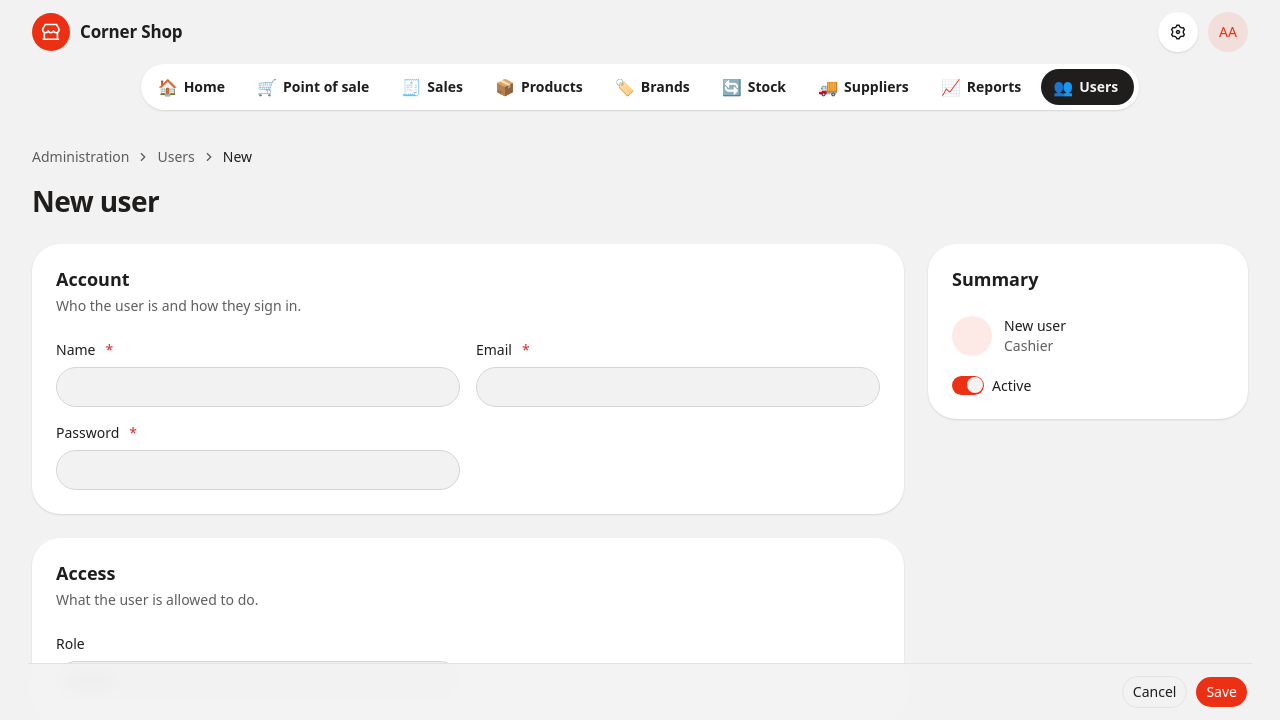
Test case: UserFormPage › shows Unsaved changes after editing and keeps Active in the summary
In the field labelled "Name": (258, 387) [56, 367, 460, 407], type "X"
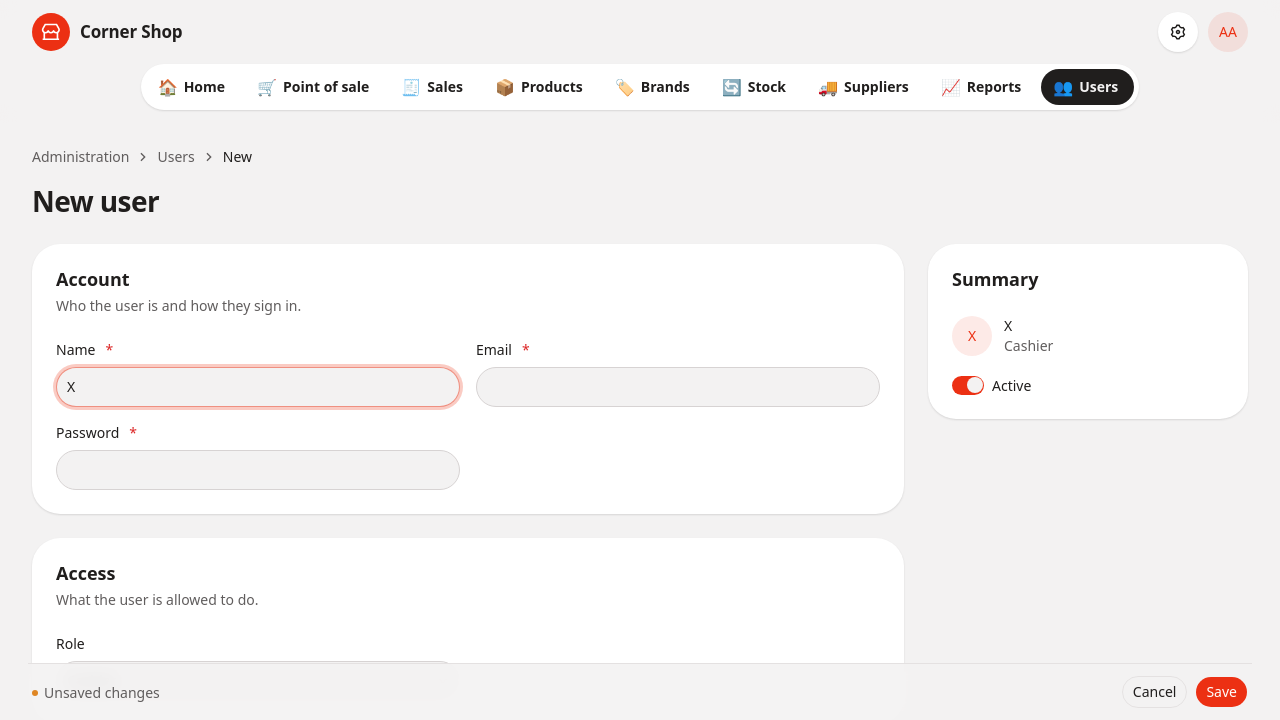
Check: the switch named "Active" is shown, box [952, 376, 984, 394]
Check: the text "Unsaved changes" is shown, box [32, 683, 160, 703]
